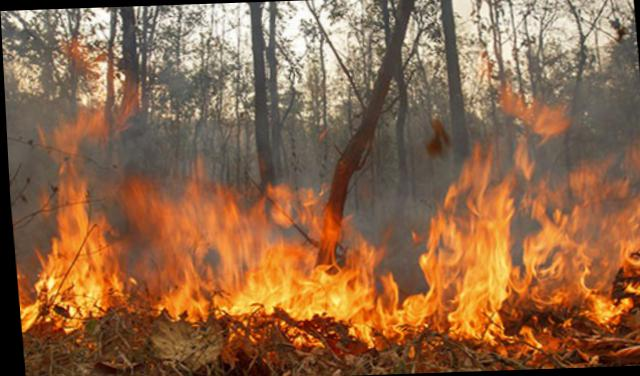fire: (7, 65, 639, 372)
